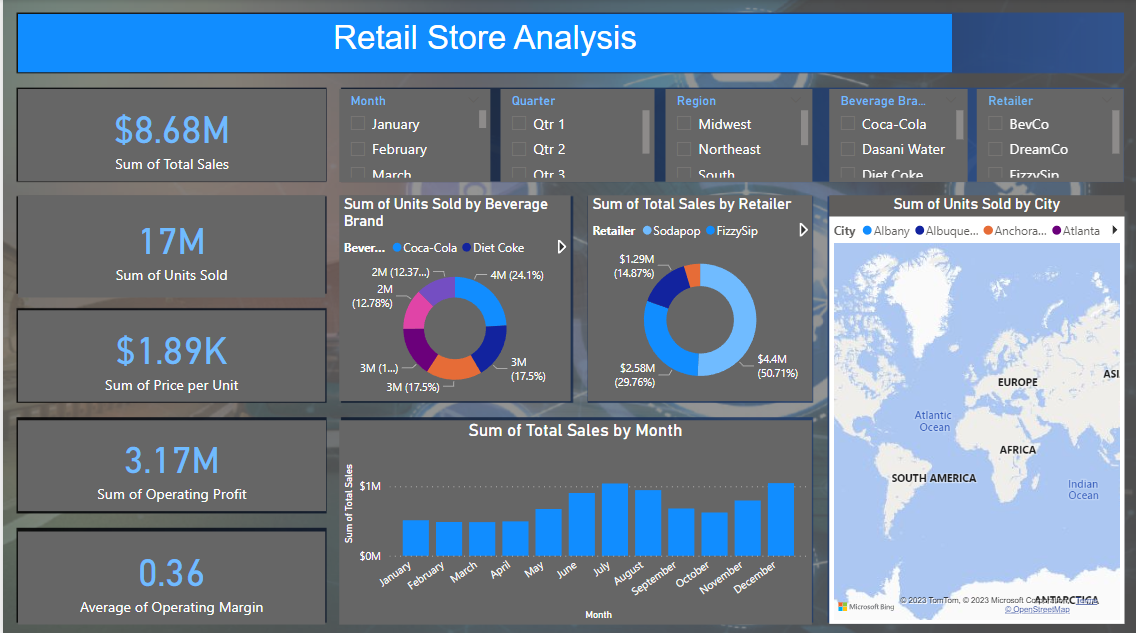

The dashboard page shown, as its layout file describes it:
{"tool":"powerbi","page":{"name":"Page 1","canvas":[1280,720],"ordinal":0},"visuals":[{"type":"donutChart","fields":{"Y":["Sum(Sheet1.Units Sold)"],"Category":["Sheet1.Beverage Brand"]},"box":[379.7,221,260.7,232.4],"z":0},{"type":"donutChart","fields":{"Y":["Sum(Sheet1.Total Sales)"],"Category":["Sheet1.Retailer"]},"box":[659.3,221,253.1,232.4],"z":1000},{"type":"clusteredColumnChart","fields":{"Y":["Sum(Sheet1.Total Sales)"],"Category":["Sheet1.Invoice Date.Variation.Date Hierarchy.Month"]},"box":[379.7,474.1,532.7,230.5],"z":2000},{"type":"card","fields":{"Values":["Avg(Sheet1.Operating Margin)"]},"box":[17.2,599.7,346.7,104.6],"z":3000},{"type":"card","fields":{"Values":["Sum(Sheet1.Operating Profit)"]},"box":[17,474.1,347.6,102],"z":4000},{"type":"card","fields":{"Values":["Sum(Sheet1.Price per Unit)"]},"box":[17.2,351.4,346.7,103.1],"z":5000},{"type":"card","fields":{"Values":["Sum(Sheet1.Units Sold)"]},"box":[17.2,221.8,346.7,115.6],"z":6000},{"type":"card","fields":{"Values":["Sum(Sheet1.Total Sales)"]},"box":[17,102,347.6,103.9],"z":7000},{"type":"slicer","fields":{"Values":["Sheet1.Invoice Date.Variation.Date Hierarchy.Month"]},"box":[379.5,101.5,170.2,104.6],"z":8000},{"type":"slicer","fields":{"Values":["Sheet1.Region"]},"box":[746.6,101.5,165.6,104.6],"z":9000},{"type":"filledMap","fields":{"Series":["Sheet1.City"]},"box":[931.3,221,332.5,483.6],"z":10000},{"type":"slicer","fields":{"Values":["Sheet1.Beverage Brand"]},"box":[930.8,101.5,156.2,104.6],"z":11000},{"type":"slicer","fields":{"Values":["Sheet1.Invoice Date.Variation.Date Hierarchy.Quarter"]},"box":[560.7,101.5,173.4,104.6],"z":12000},{"type":"slicer","fields":{"Values":["Sheet1.Retailer"]},"box":[1098,101.5,165.6,104.6],"z":13000},{"type":"textbox","box":[17.2,17.2,1052.7,65.6],"z":14000}]}

Visuals, with their boxes in screenshot pixels (x1, y1, x2, y2), scaled from the page's 1280x720 canvas onto the 1136x633 screenshot:
donutChart - Sum(Sheet1.Units Sold) x Sheet1.Beverage Brand: 337, 194, 568, 399
donutChart - Sum(Sheet1.Total Sales) x Sheet1.Retailer: 585, 194, 810, 399
clusteredColumnChart - Sum(Sheet1.Total Sales) x Sheet1.Invoice Date.Variation.Date Hierarchy.Month: 337, 417, 810, 619
card - Avg(Sheet1.Operating Margin): 15, 527, 323, 619
card - Sum(Sheet1.Operating Profit): 15, 417, 324, 506
card - Sum(Sheet1.Price per Unit): 15, 309, 323, 400
card - Sum(Sheet1.Units Sold): 15, 195, 323, 297
card - Sum(Sheet1.Total Sales): 15, 90, 324, 181
slicer - Sheet1.Invoice Date.Variation.Date Hierarchy.Month: 337, 89, 488, 181
slicer - Sheet1.Region: 663, 89, 810, 181
filledMap - Sheet1.City: 827, 194, 1122, 619
slicer - Sheet1.Beverage Brand: 826, 89, 965, 181
slicer - Sheet1.Invoice Date.Variation.Date Hierarchy.Quarter: 498, 89, 652, 181
slicer - Sheet1.Retailer: 974, 89, 1121, 181
textbox: 15, 15, 950, 73
